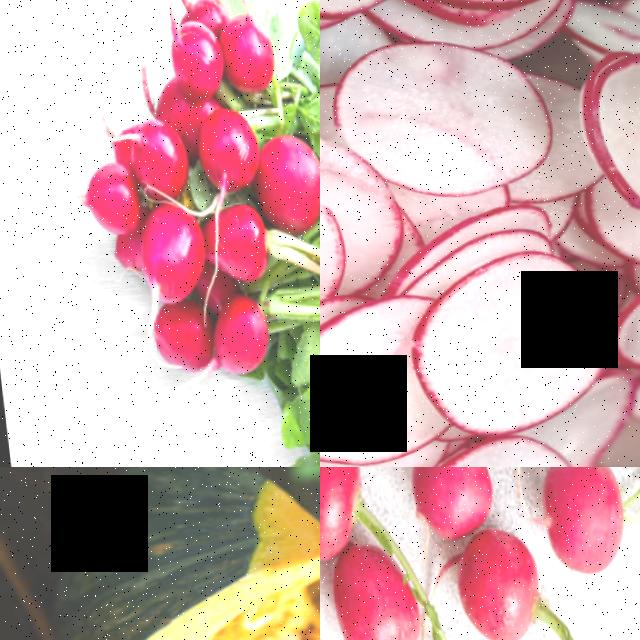pumpkin: (42, 467, 320, 640)
radishes: (55, 0, 320, 427)
spinach: (438, 522, 563, 640), (531, 467, 640, 579), (331, 542, 436, 640), (401, 467, 498, 543), (320, 467, 373, 547)
